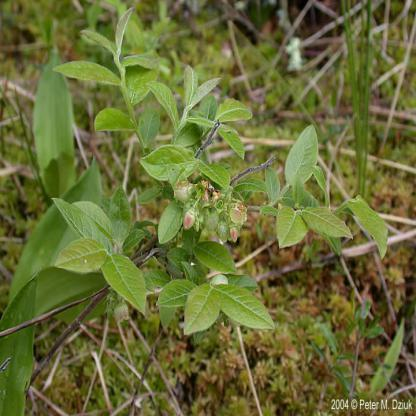Blueberry leaf: (341, 188, 396, 264), (211, 281, 278, 339), (104, 248, 154, 322), (281, 114, 320, 200), (56, 198, 114, 253), (214, 93, 256, 165), (178, 280, 224, 342), (187, 240, 249, 283), (174, 63, 218, 123), (52, 236, 109, 276), (296, 206, 358, 242), (275, 198, 314, 254), (88, 104, 138, 146), (50, 58, 112, 89), (105, 184, 135, 248), (108, 8, 134, 74)
